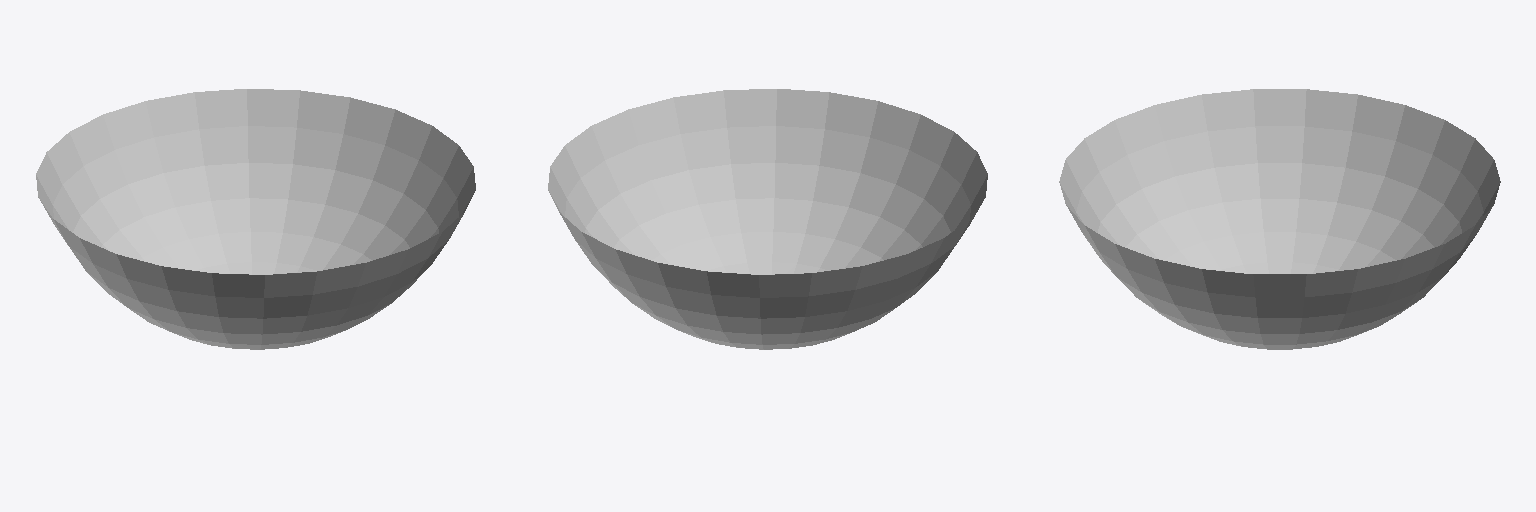
Rendered from boule.obj.
3 views of the same model, side by side, from view 1: azimuth 30°, elevation 25°; view 2: azimuth 150°, elevation 25°; view 3: azimuth 270°, elevation 25° (orthographic).
Parts seen in each view (by area): view 1: Sphere; view 2: Sphere; view 3: Sphere.
Boxes of the visible parts, box(x1,y1,x2,y2) form: Sphere: box(36, 89, 475, 349); Sphere: box(548, 89, 987, 349); Sphere: box(1059, 89, 1500, 349).
Size of the model in its own units: 1.82 by 0.6783 by 1.83.